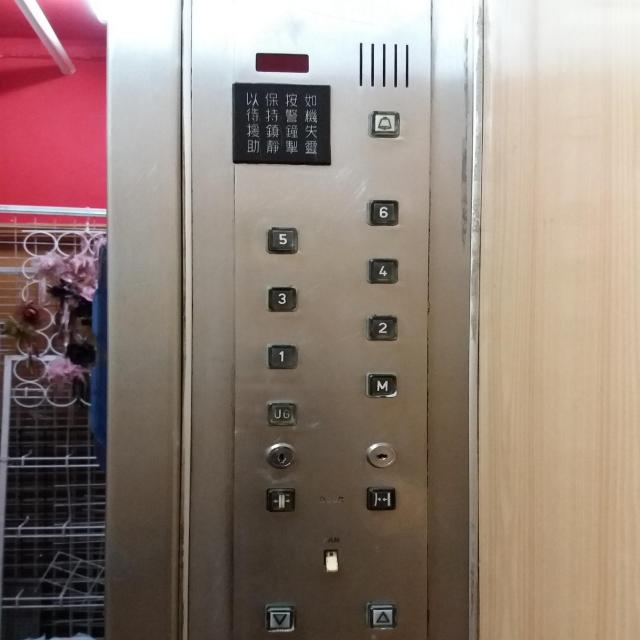1: (266, 343, 300, 371)
2: (365, 313, 401, 343)
3: (266, 284, 298, 314)
4: (366, 256, 400, 286)
5: (265, 225, 300, 256)
6: (366, 197, 401, 228)
M: (363, 370, 399, 400)
UG: (264, 401, 298, 428)
alarm: (368, 108, 401, 140)
close: (366, 485, 398, 512)
down: (265, 601, 295, 632)
keyhole: (263, 440, 298, 469), (364, 441, 398, 470)
open: (263, 485, 298, 514)
switch: (322, 546, 341, 576)
up: (365, 600, 397, 630)
